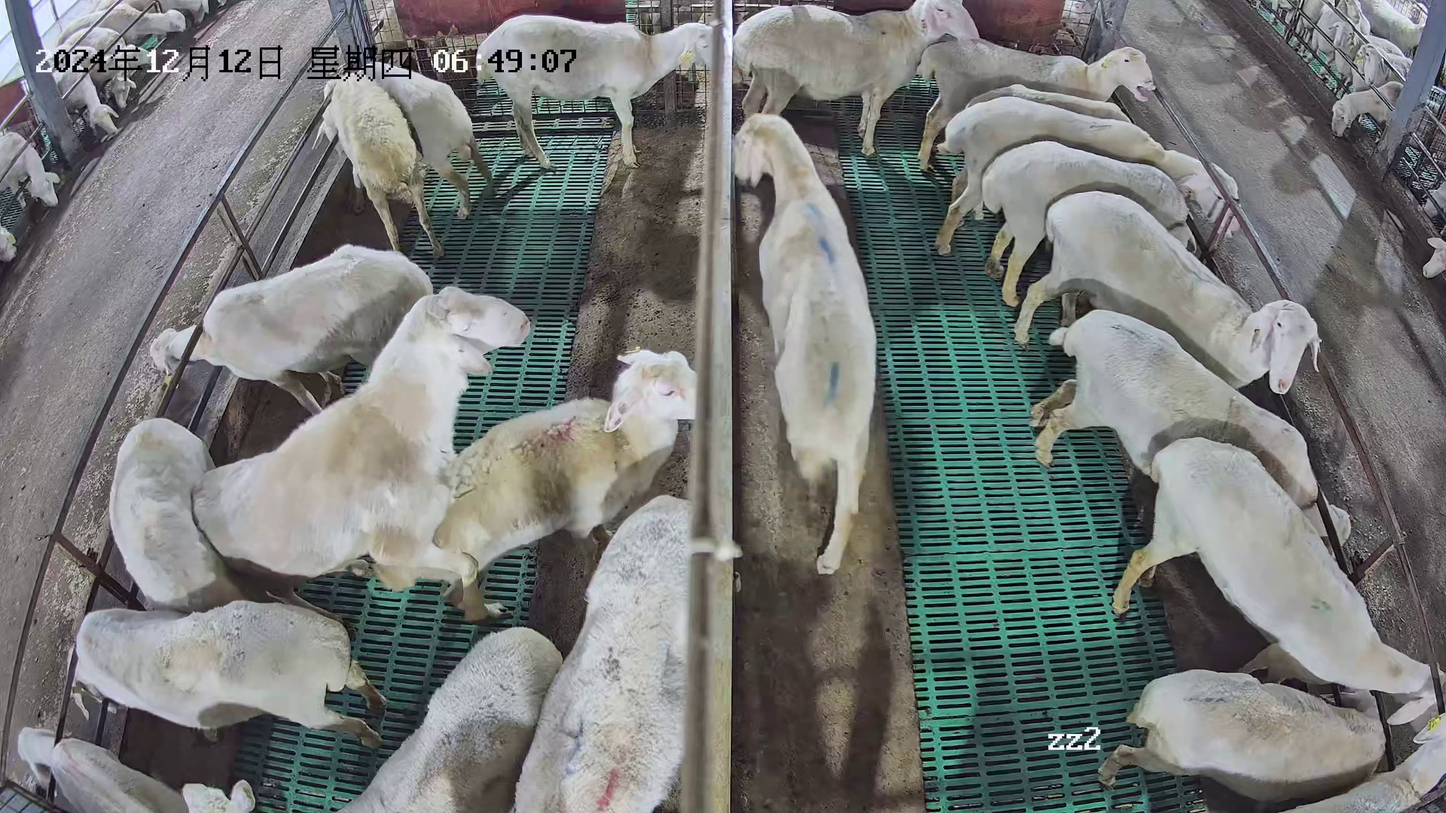Smounting: (193, 283, 699, 623)
mounted: (371, 345, 696, 620)
